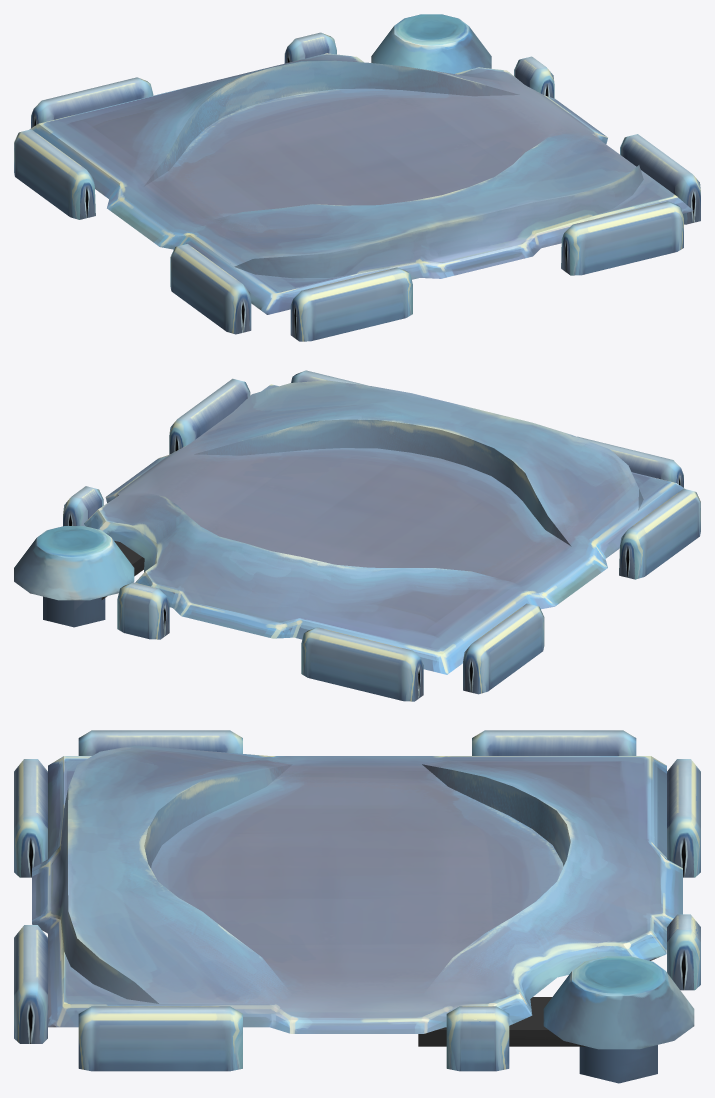
The model's file is ModuleCasing.fbx.
3 renders of one model, top to bottom at view 1: azimuth 30°, elevation 25°; view 2: azimuth 150°, elevation 25°; view 3: azimuth 270°, elevation 25°, orthographic. The views are drawn at different scales.
Parts seen in each view (by area): view 1: Component_PuzzleBackground; view 2: Component_PuzzleBackground; view 3: Component_PuzzleBackground.
Part boxes in pixels (left/top/right/bottom): Component_PuzzleBackground: left=14, top=14, right=700, bottom=341; Component_PuzzleBackground: left=14, top=370, right=700, bottom=701; Component_PuzzleBackground: left=14, top=730, right=700, bottom=1083.
Size of the model in its own units: 200 by 36.45 by 200.
